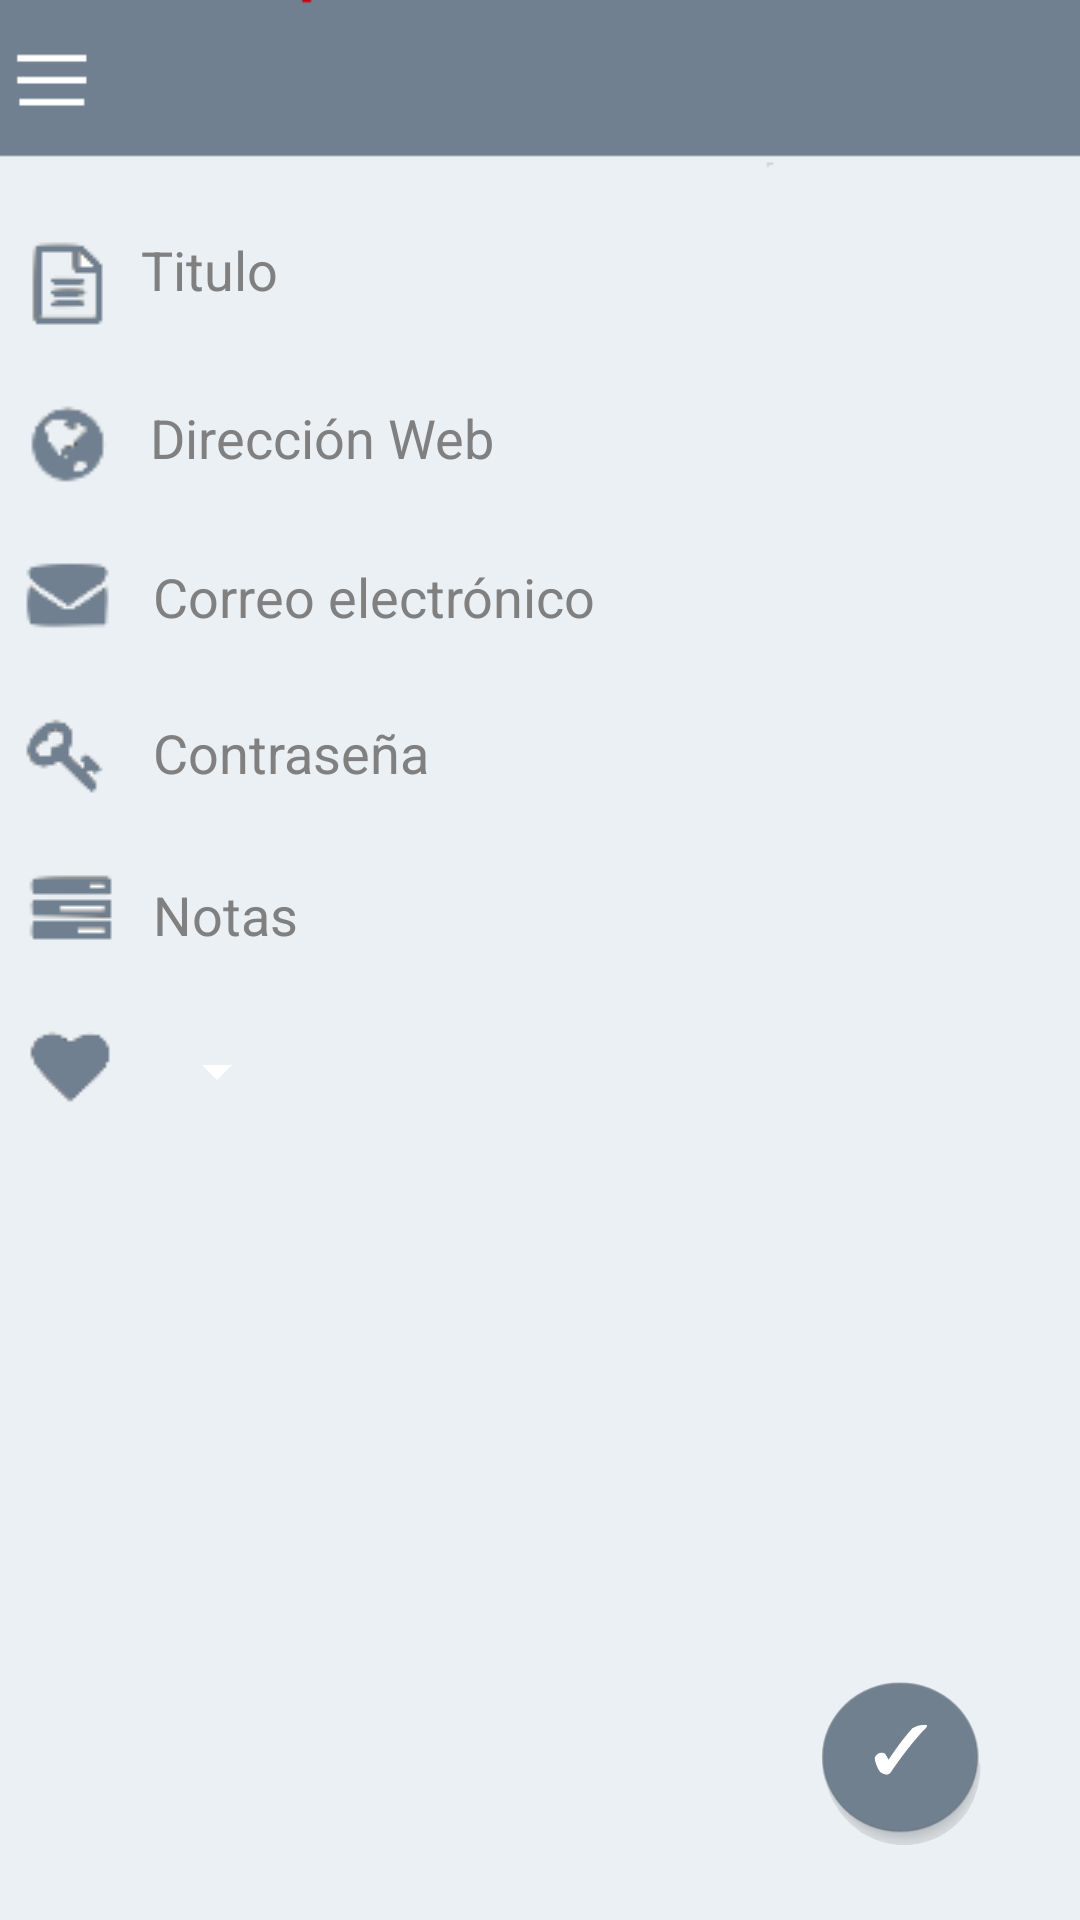

Icons on this 1080px×1920px Android screen, each with the point to tap as point (x, y):
global: point (67, 444)
key: point (64, 756)
mail: point (67, 595)
tick: point (901, 1763)
